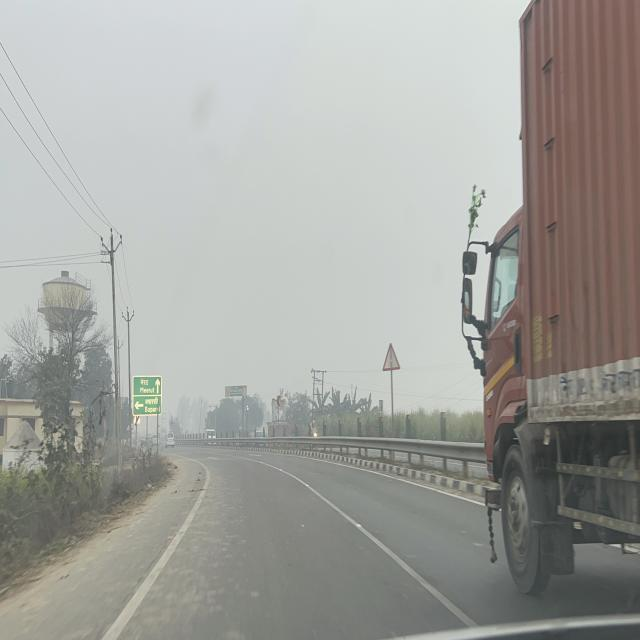GAP_IN_MEDIAN: (382, 342, 401, 372)
GENERAL: (132, 375, 162, 416)
TURN_LEFT: (276, 395, 280, 407)
